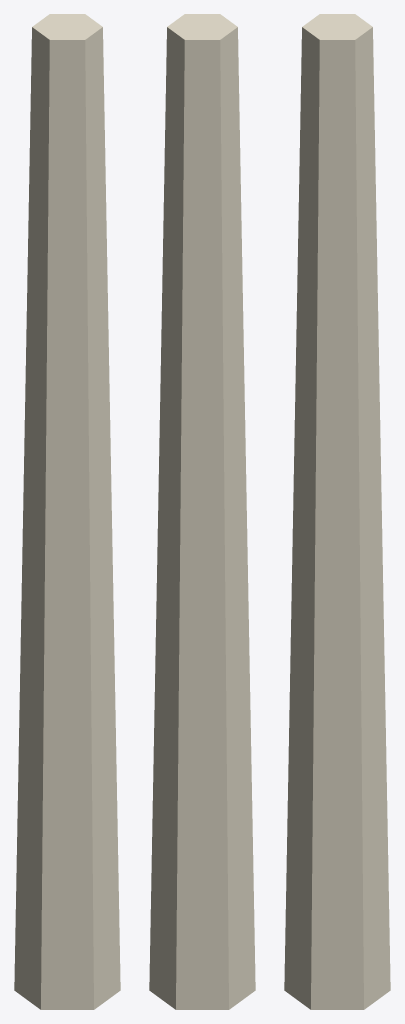
Rendered from prop-burnishing-stick-lf1.fbx.
3 views of the same model, side by side, from view 1: azimuth 30°, elevation 25°; view 2: azimuth 150°, elevation 25°; view 3: azimuth 330°, elevation 25° (orthographic).
Visible parts, largest first — view 1: prop-burnishing-stick-lf1; view 2: prop-burnishing-stick-lf1; view 3: prop-burnishing-stick-lf1.
Part boxes in pixels (bbox=[...]): prop-burnishing-stick-lf1: bbox=[14, 14, 120, 1009]; prop-burnishing-stick-lf1: bbox=[149, 14, 255, 1009]; prop-burnishing-stick-lf1: bbox=[284, 14, 390, 1009].
Size of the model in its own units: 1.56 by 18 by 1.8.
